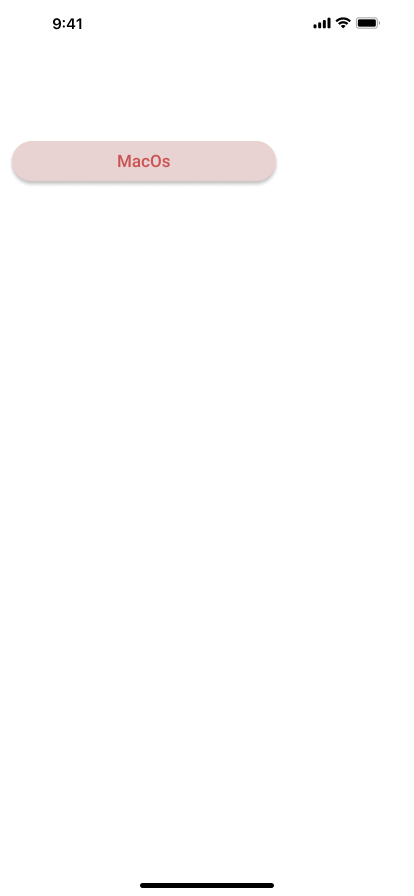Buttons: (8, 140, 284, 188)
Home Indicator: (0, 862, 414, 896)
Status Bar: (0, 0, 414, 44)
